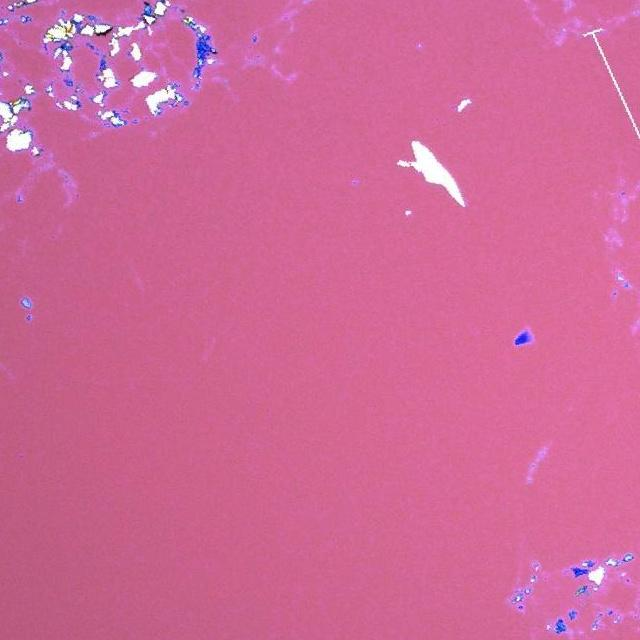monolayer-eWW4: (528, 327, 536, 343)
